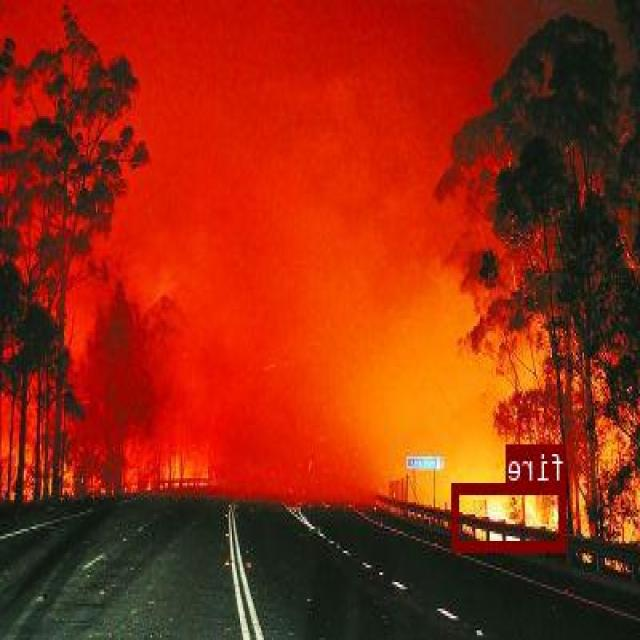fire: (453, 482, 568, 549)
